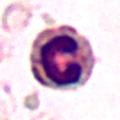monocyte: (25, 23, 101, 90)
